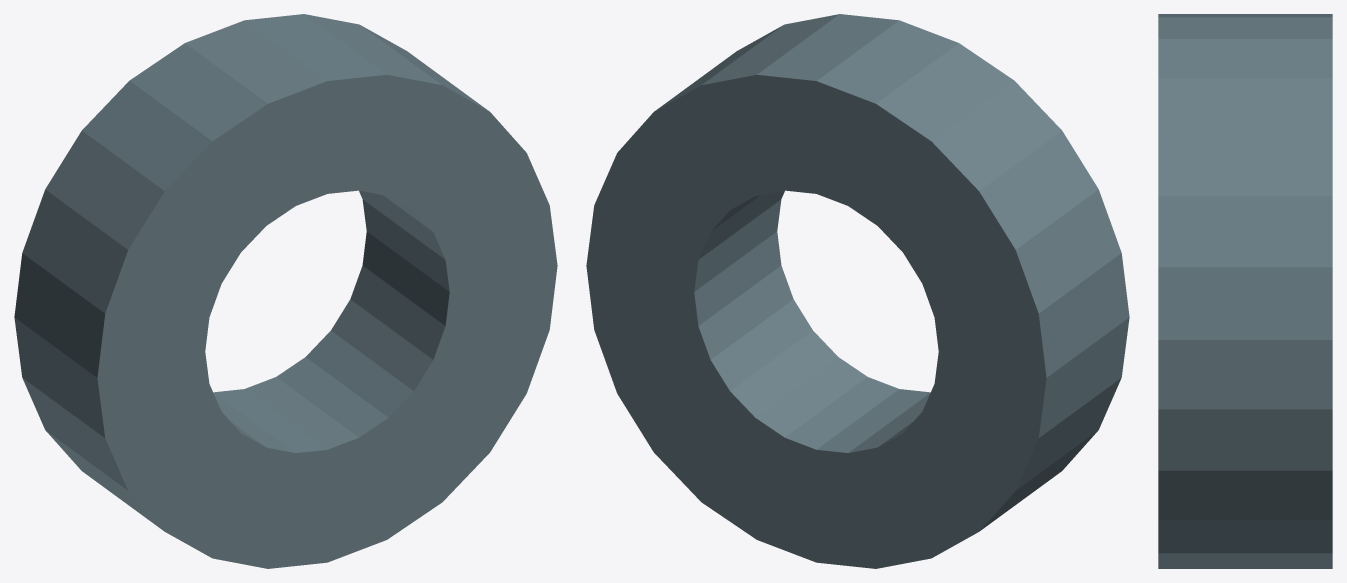
File: 15_SpacerRing.obj
3 renders of one model, left to right at view 1: azimuth 30°, elevation 25°; view 2: azimuth 150°, elevation 25°; view 3: azimuth 270°, elevation 25°, orthographic. The views are drawn at different scales.
Bounding box in the file's own units: 0.32 × 0.32 × 0.1.
